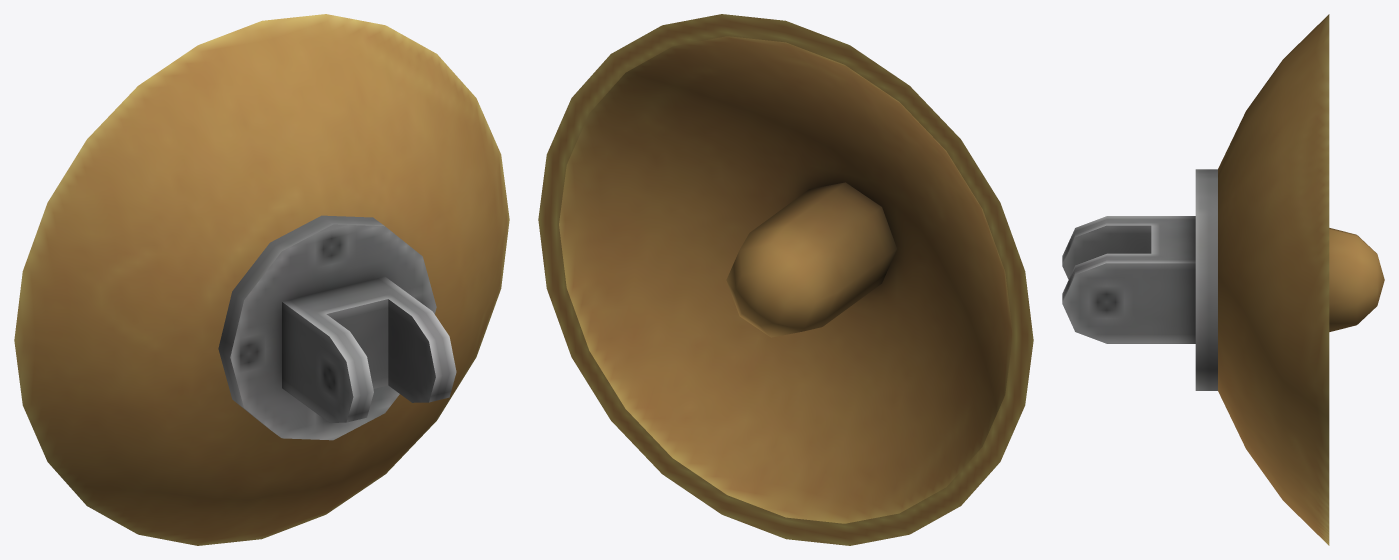
Rendered from antenna dish.obj.
The picture shows the model from 3 angles, left to right: view 1: azimuth 30°, elevation 25°; view 2: azimuth 150°, elevation 25°; view 3: azimuth 270°, elevation 25°; orthographic projection. The views are drawn at different scales.
Visible parts, largest first — view 1: 1; view 2: 1; view 3: 1.
Part boxes in pixels (left/top/right/bottom): 1: left=14, top=14, right=509, bottom=545; 1: left=538, top=14, right=1033, bottom=545; 1: left=1062, top=14, right=1384, bottom=545.
Size of the model in its own units: 0.3 by 0.3 by 0.1813.
Materials: 1 (1 with a texture image).
